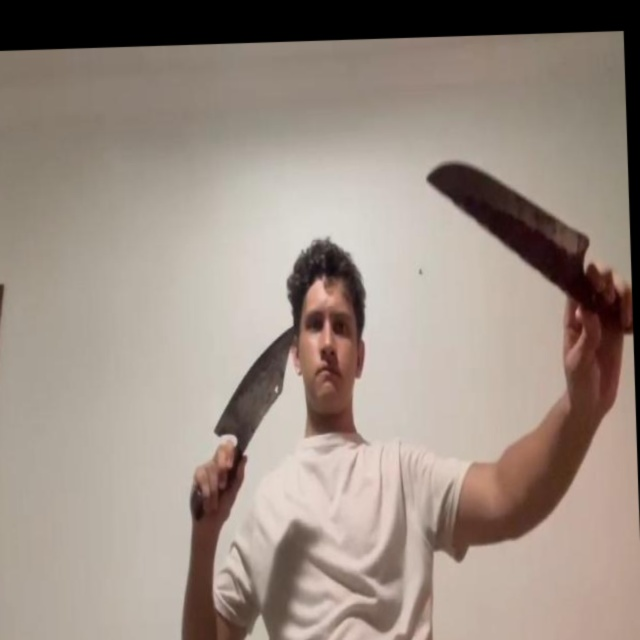Sharp-Object: (428, 157, 589, 284), (211, 326, 298, 435)
